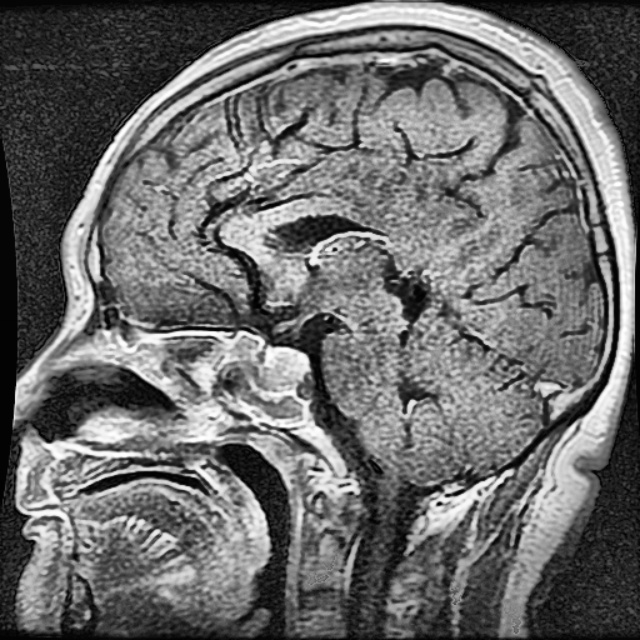Pituitary: (258, 343, 309, 390)
